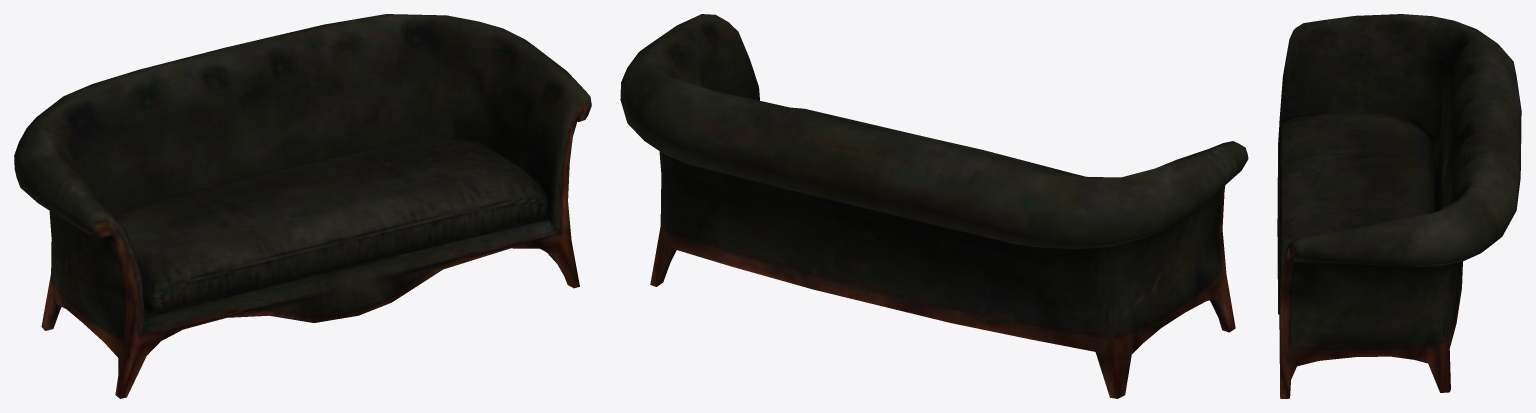
Rendered from sofa2.glb.
3 renders of one model, left to right at view 1: azimuth 30°, elevation 25°; view 2: azimuth 150°, elevation 25°; view 3: azimuth 270°, elevation 25°, orthographic. The views are drawn at different scales.
Visible parts, largest first — view 1: lo; view 2: lo; view 3: lo.
Part boxes in pixels (<box>): lo: <box>14,14,591,398</box>; lo: <box>620,14,1248,398</box>; lo: <box>1277,14,1521,398</box>.
Bounding box in the file's own units: 1.81 × 0.7095 × 0.8168.
1 material, 1 textured.
